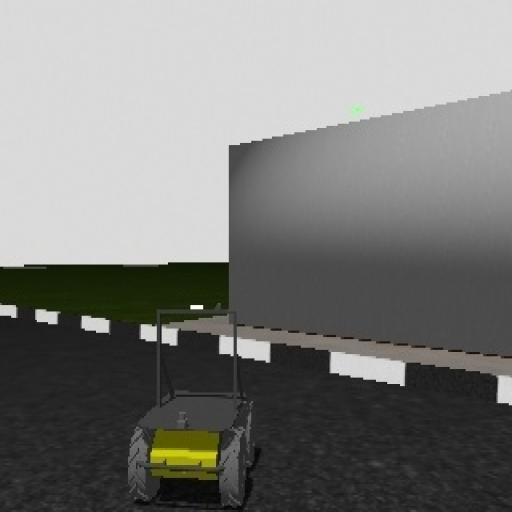huskya200: (122, 290, 267, 512)
